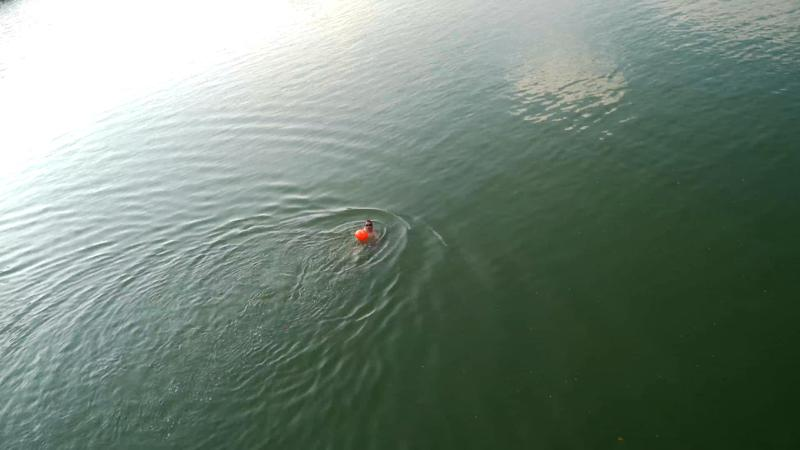swimmers: (354, 218, 378, 240)
